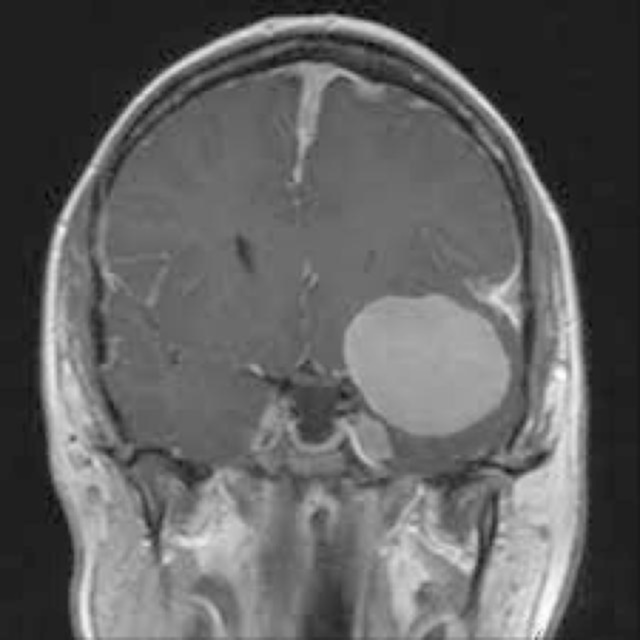meningioma tumor: (333, 282, 543, 438)
